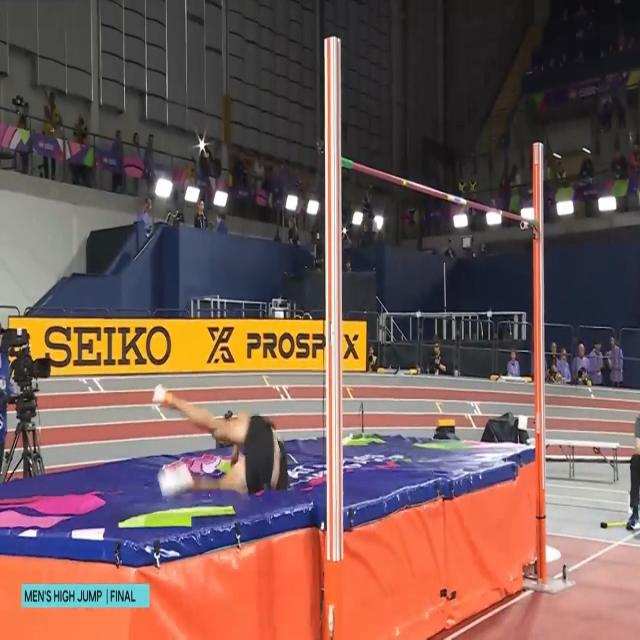land: (154, 382, 288, 494)
